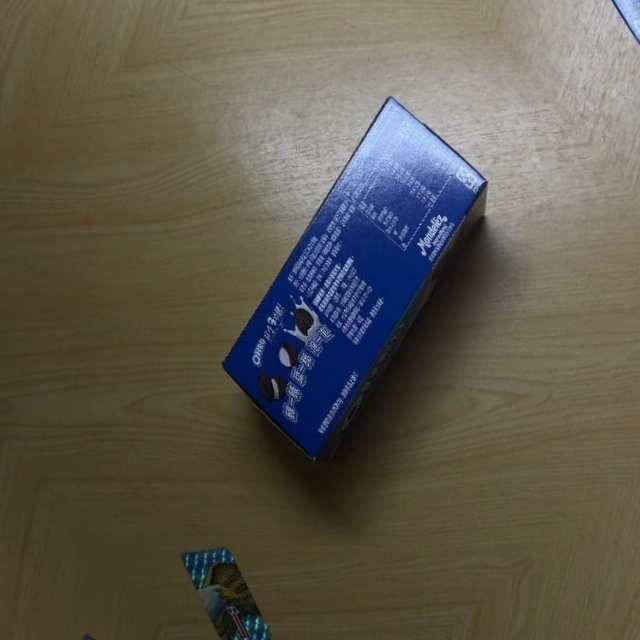Oreo: (159, 82, 559, 471)
